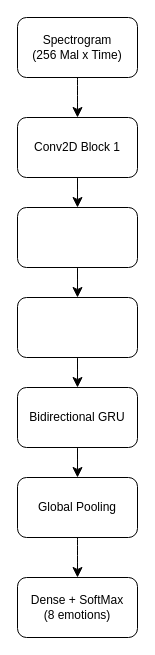
The diagram is 155 pixels wide and 655 high, and some of its shapes have lost their labels. The centre of each missing label's shape, as x and y in pixels:
"Conv2D Block 2" belongs at [77,237].
"Conv2D Block 3" belongs at [77,327].
